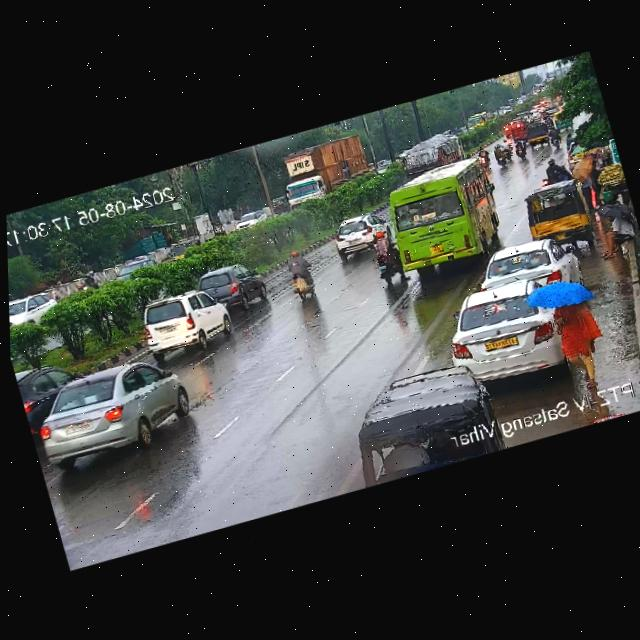bus: (380, 154, 506, 283), (394, 128, 465, 182)
car: (23, 348, 200, 475), (434, 271, 575, 403), (471, 231, 587, 309), (130, 280, 237, 363), (13, 349, 99, 436), (515, 177, 595, 245), (190, 258, 269, 317), (328, 209, 397, 261), (9, 285, 64, 327), (106, 253, 162, 290), (163, 232, 205, 263), (72, 267, 103, 295), (464, 107, 493, 133)
motorcycle: (278, 244, 322, 306), (368, 229, 405, 288), (533, 153, 571, 187), (521, 118, 554, 151), (574, 160, 597, 205), (512, 137, 530, 160), (490, 142, 507, 166), (474, 145, 489, 168), (208, 220, 226, 238)
person: (541, 277, 610, 392), (585, 205, 640, 265), (544, 125, 562, 148)
truck: (269, 128, 377, 218), (230, 205, 272, 233)
